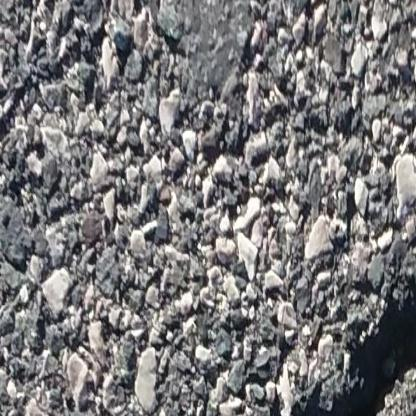Cracks: (147, 278, 416, 416)
